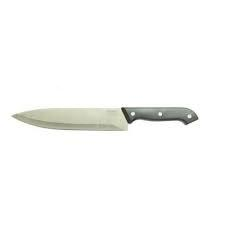knives: (2, 83, 212, 151)
